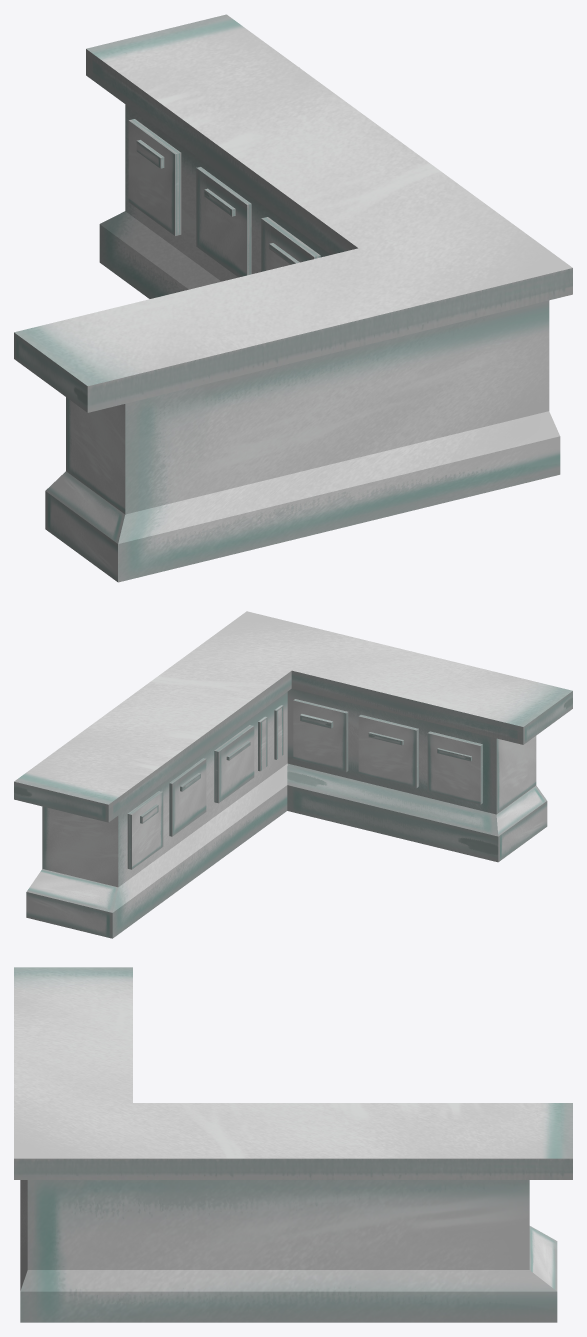
File: counter.fbx
The picture shows the model from 3 angles, top to bottom: view 1: azimuth 30°, elevation 25°; view 2: azimuth 150°, elevation 25°; view 3: azimuth 270°, elevation 25°; orthographic projection. The views are drawn at different scales.
Parts seen in each view (by area): view 1: counterbetter; view 2: counterbetter; view 3: counterbetter.
Boxes of the visible parts, <box> form: counterbetter: <box>14,14,572,582</box>; counterbetter: <box>14,611,572,938</box>; counterbetter: <box>14,967,572,1322</box>.
Bounding box in the file's own units: 811 × 332 × 1003.
